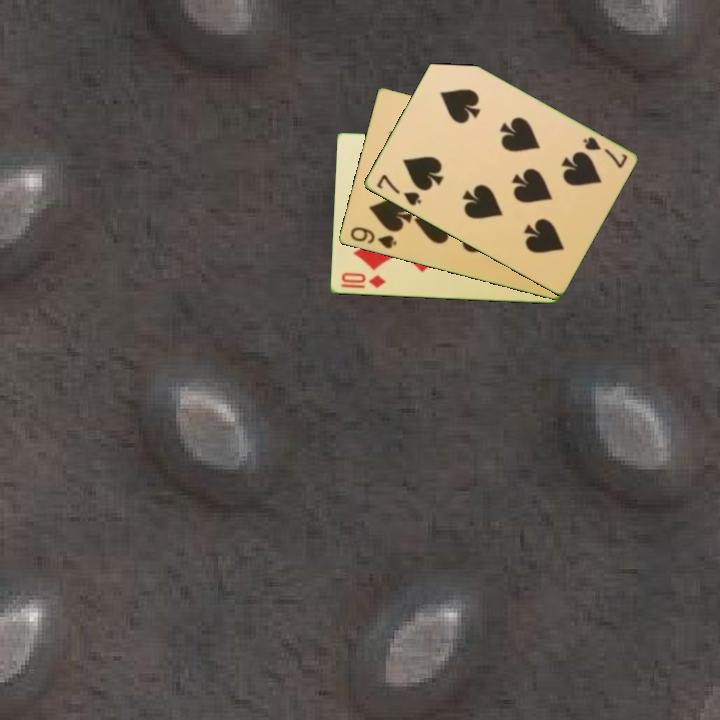10d: (338, 269, 388, 291)
7s: (373, 171, 424, 209), (579, 133, 630, 171)
9s: (346, 223, 399, 252)
